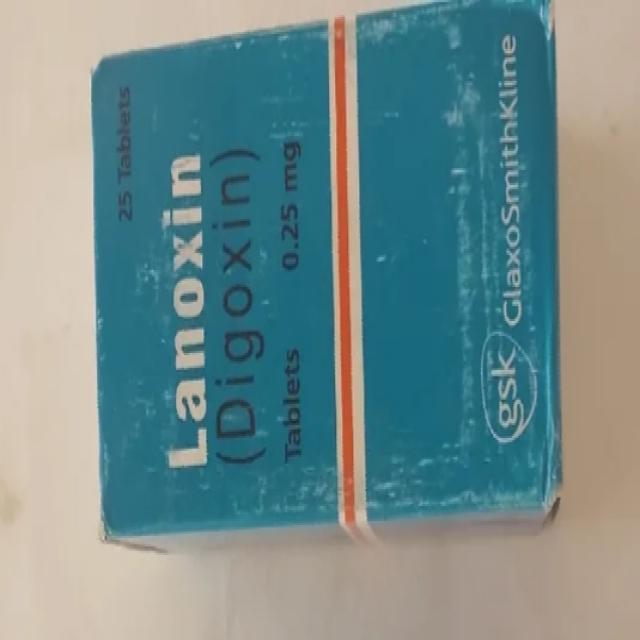drug-name: (152, 153, 212, 470)
